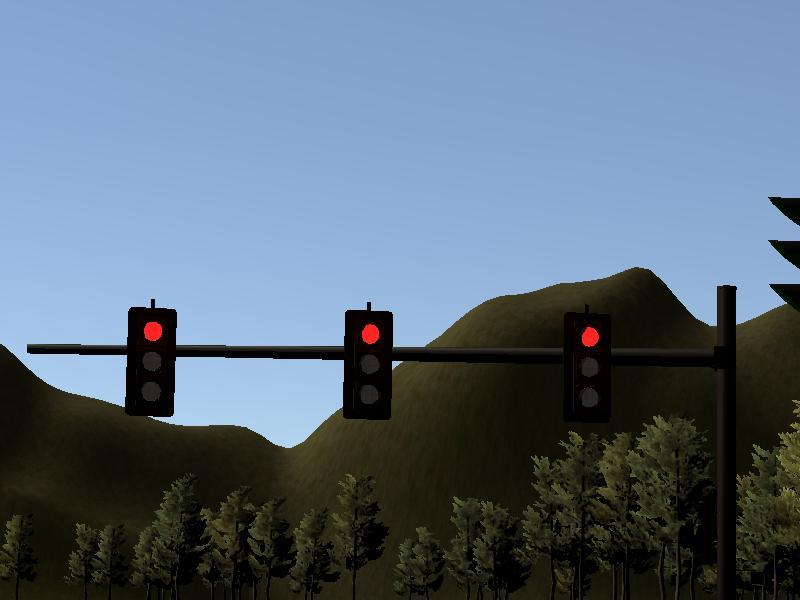Red: (562, 313, 609, 421), (345, 311, 392, 419), (127, 308, 174, 416)
